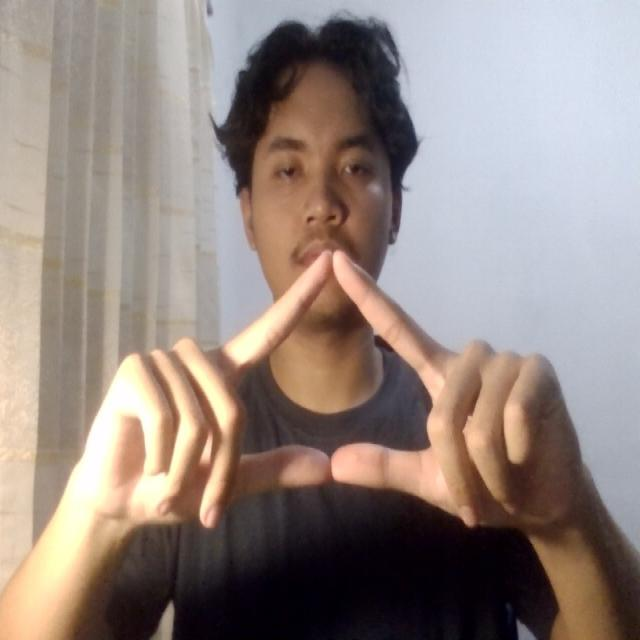A: (68, 235, 587, 556)
